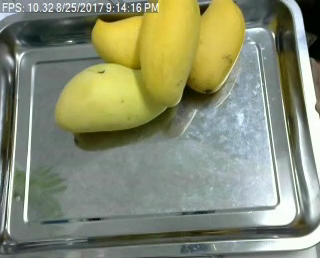Mango: (53, 61, 174, 134), (136, 0, 202, 107), (186, 0, 247, 97), (91, 12, 154, 68)
